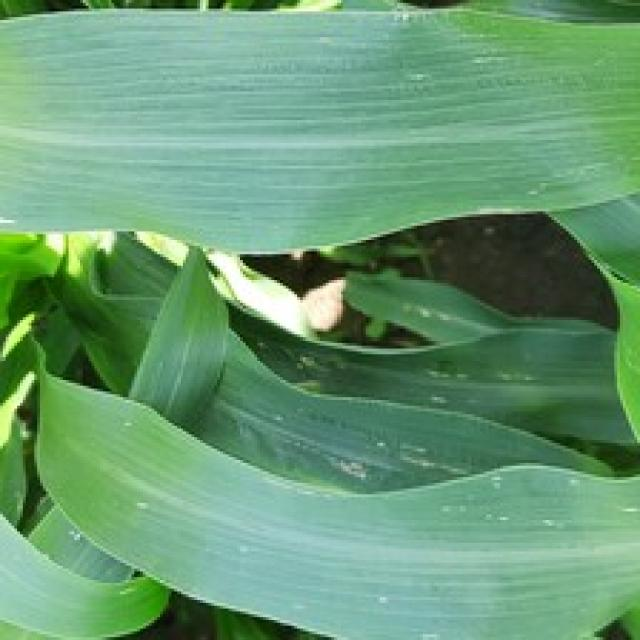Corn: (0, 0, 637, 637), (26, 352, 637, 637), (0, 0, 637, 257), (0, 409, 169, 637)
